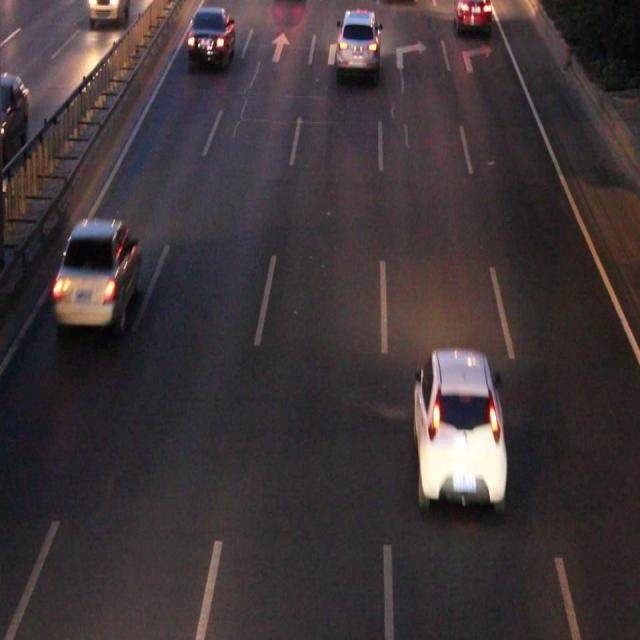car: (415, 350, 503, 501), (58, 221, 138, 324), (336, 9, 379, 70), (188, 8, 234, 61), (453, 1, 488, 30)
